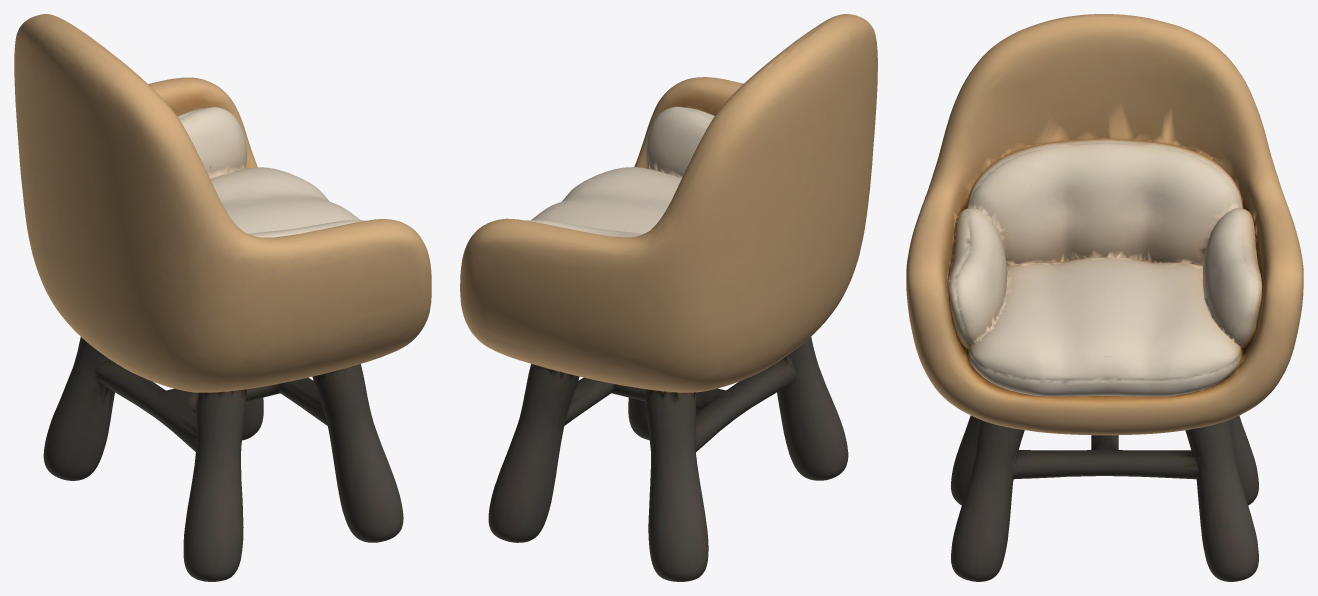
Rendered from KR_사물_s1_chair_old.glb.
3 renders of one model, left to right at view 1: azimuth 30°, elevation 25°; view 2: azimuth 150°, elevation 25°; view 3: azimuth 270°, elevation 25°, orthographic. The views are drawn at different scales.
Visible parts, largest first — view 1: tripo_node_06f3dadf-a3ea-4970-b763-a9a716b18d30; view 2: tripo_node_06f3dadf-a3ea-4970-b763-a9a716b18d30; view 3: tripo_node_06f3dadf-a3ea-4970-b763-a9a716b18d30.
Boxes of the visible parts, left/top/right/bottom form: tripo_node_06f3dadf-a3ea-4970-b763-a9a716b18d30: left=14, top=14, right=431, bottom=581; tripo_node_06f3dadf-a3ea-4970-b763-a9a716b18d30: left=460, top=14, right=877, bottom=581; tripo_node_06f3dadf-a3ea-4970-b763-a9a716b18d30: left=906, top=14, right=1303, bottom=581.
Size of the model in its own units: 0.6274 by 0.9999 by 0.7797.
Materials: 1 (1 with a texture image).
